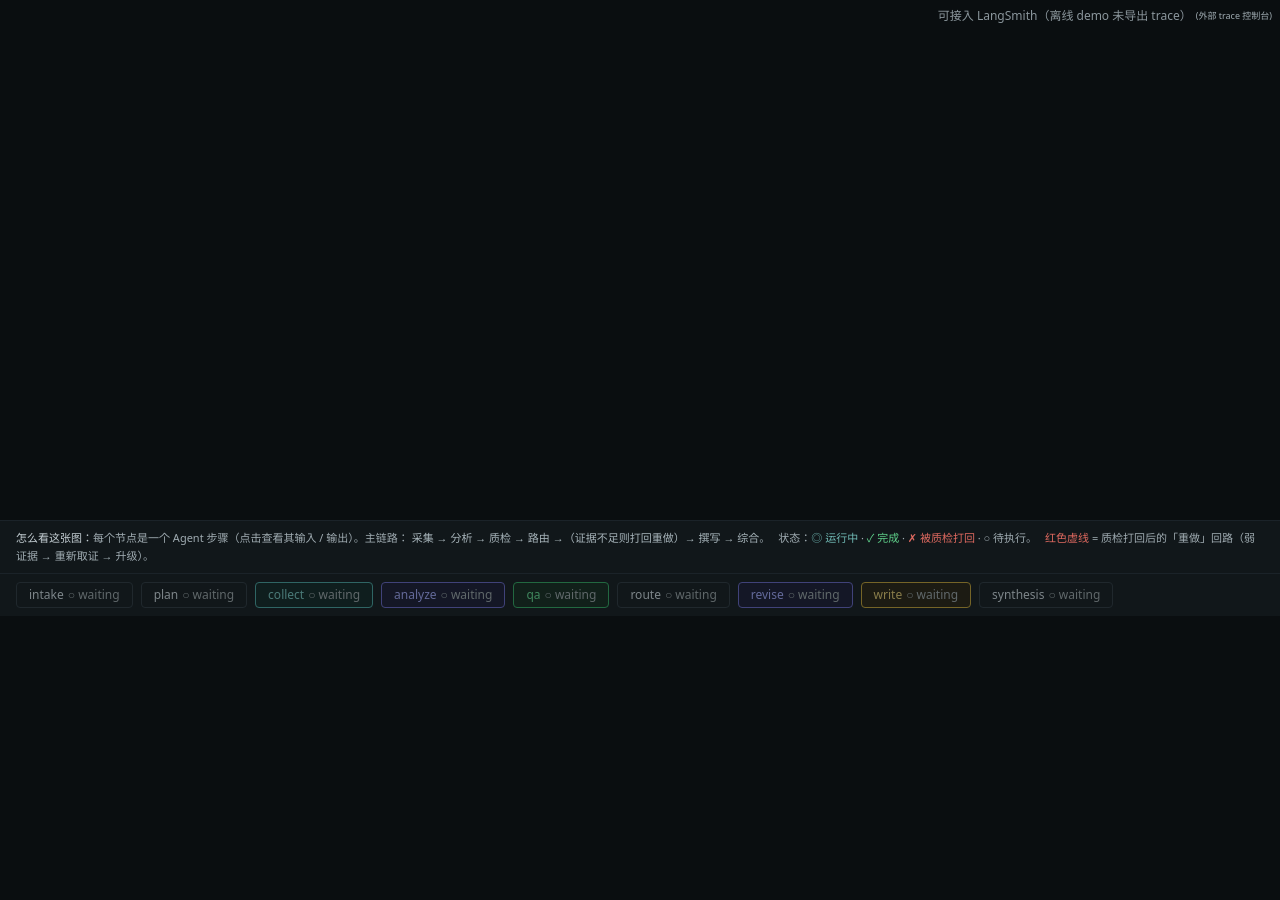
Test: ExecutionTrace component › NODE_AGENT.synthesis maps to "synthesis" (unit assertion)
The width and height of the screenshot is (1280, 900).
Click the button with test id "node-btn-synthesis" at (1046, 595), box [979, 582, 1113, 608]
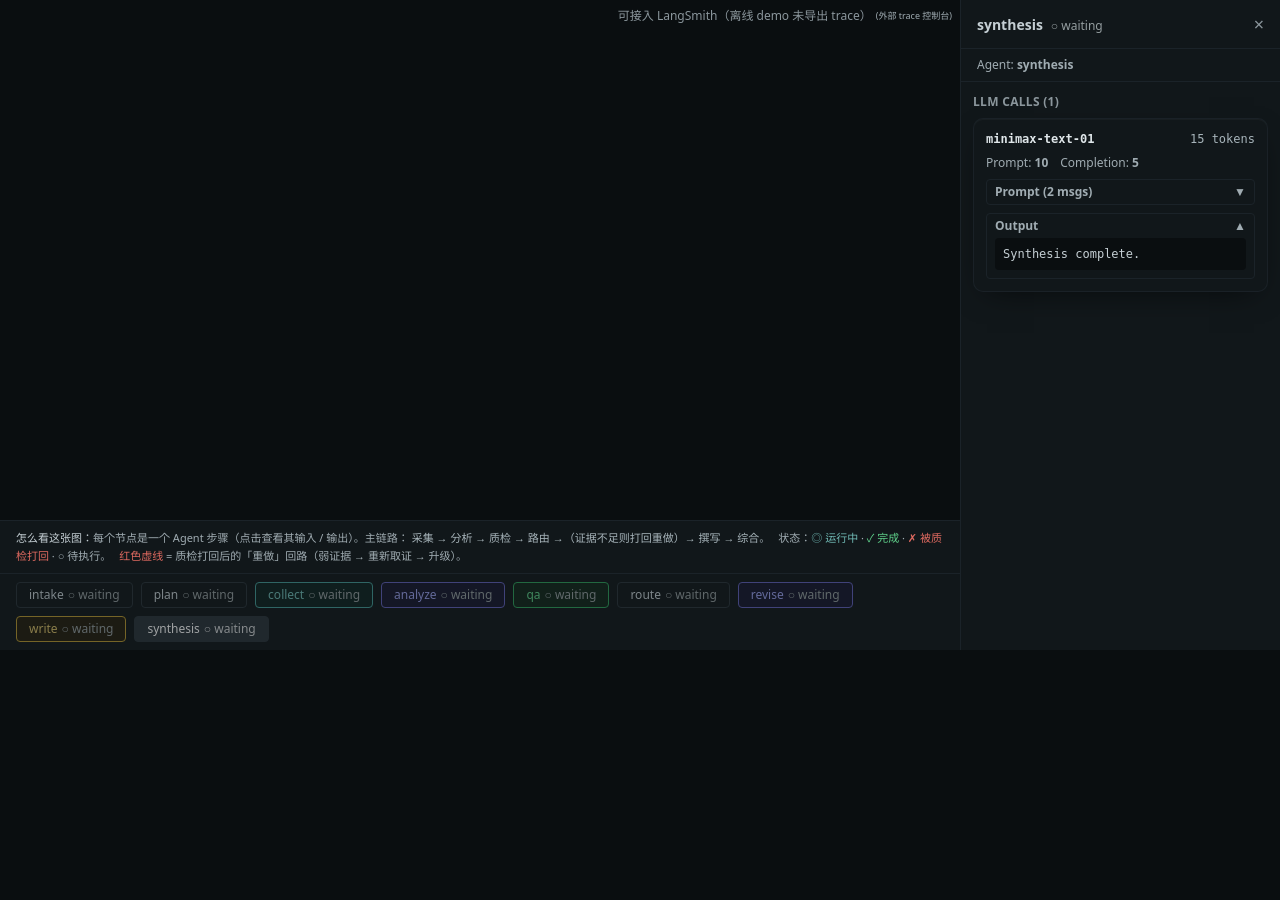
Check: the element with test id "node-detail-panel" is shown, box [960, 0, 1279, 650]
Check: the element with test id "et-llm-card-0" is shown, box [973, 118, 1268, 292]
Check: the text with test id "et-token-total" shows "15", box [1190, 132, 1204, 146]
